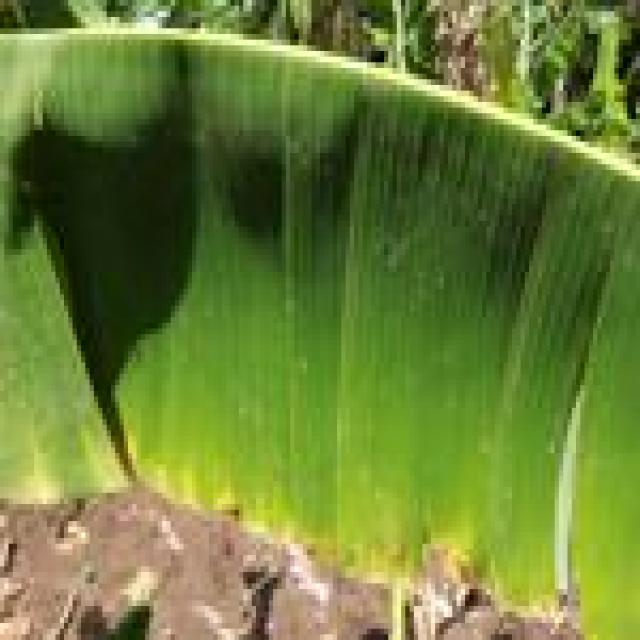Early_rust: (0, 359, 638, 639)
